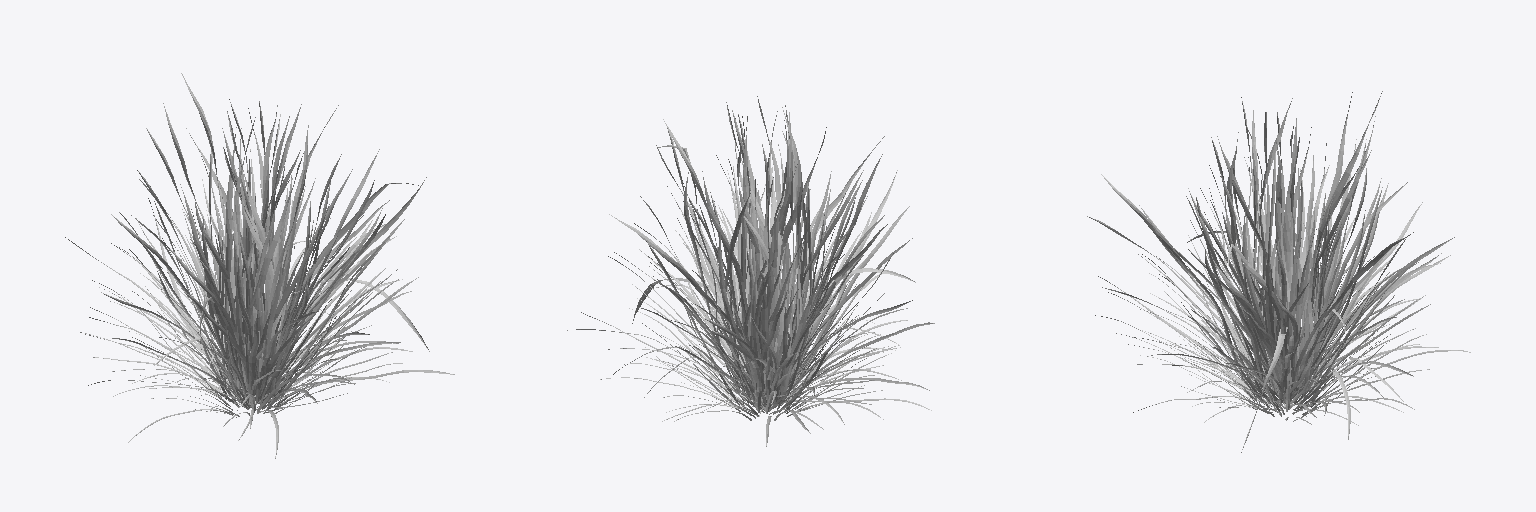
Rendered from kkviz miscanthus sinensis zebrinus_01.obj.
3 renders of one model, left to right at view 1: azimuth 30°, elevation 25°; view 2: azimuth 150°, elevation 25°; view 3: azimuth 270°, elevation 25°, orthographic.
Visible parts, largest first — view 1: kkviz_miscanthus_sinensis_zebrinus_01; view 2: kkviz_miscanthus_sinensis_zebrinus_01; view 3: kkviz_miscanthus_sinensis_zebrinus_01.
Part boxes in pixels (left/top/right/bottom): kkviz_miscanthus_sinensis_zebrinus_01: left=65, top=73, right=454, bottom=458; kkviz_miscanthus_sinensis_zebrinus_01: left=567, top=96, right=934, bottom=446; kkviz_miscanthus_sinensis_zebrinus_01: left=1087, top=91, right=1470, bottom=452.
Bounding box in the file's own units: 57.88 × 50.8 × 58.11.